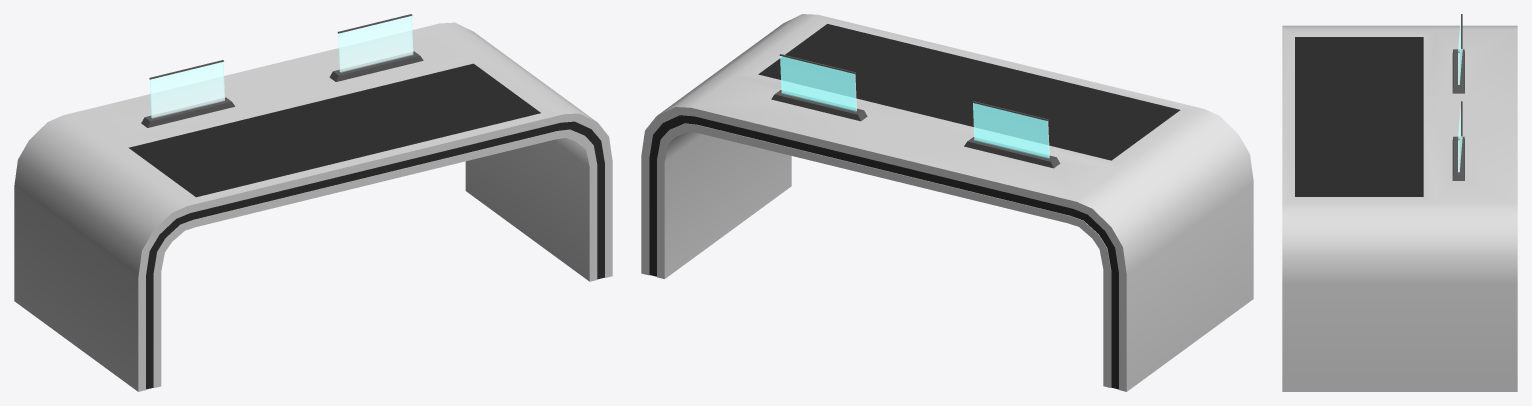
File: desk.fbx
3 renders of one model, left to right at view 1: azimuth 30°, elevation 25°; view 2: azimuth 150°, elevation 25°; view 3: azimuth 270°, elevation 25°, orthographic. The views are drawn at different scales.
Parts seen in each view (by area): view 1: Cube; view 2: Cube; view 3: Cube.
Part boxes in pixels (box(x1,y1,x2,y2)): Cube: box(14, 14, 612, 391); Cube: box(641, 14, 1253, 391); Cube: box(1282, 14, 1517, 391).
Size of the model in its own units: 1189 by 524 by 539.
